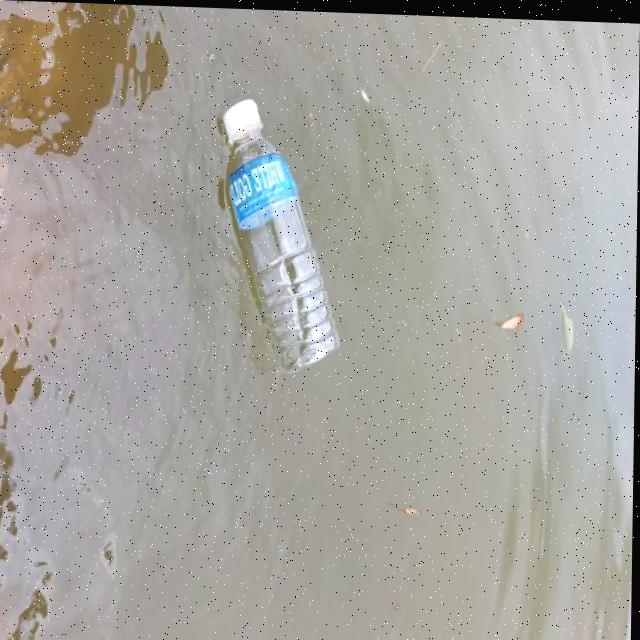waterbottle: (207, 83, 332, 393)
